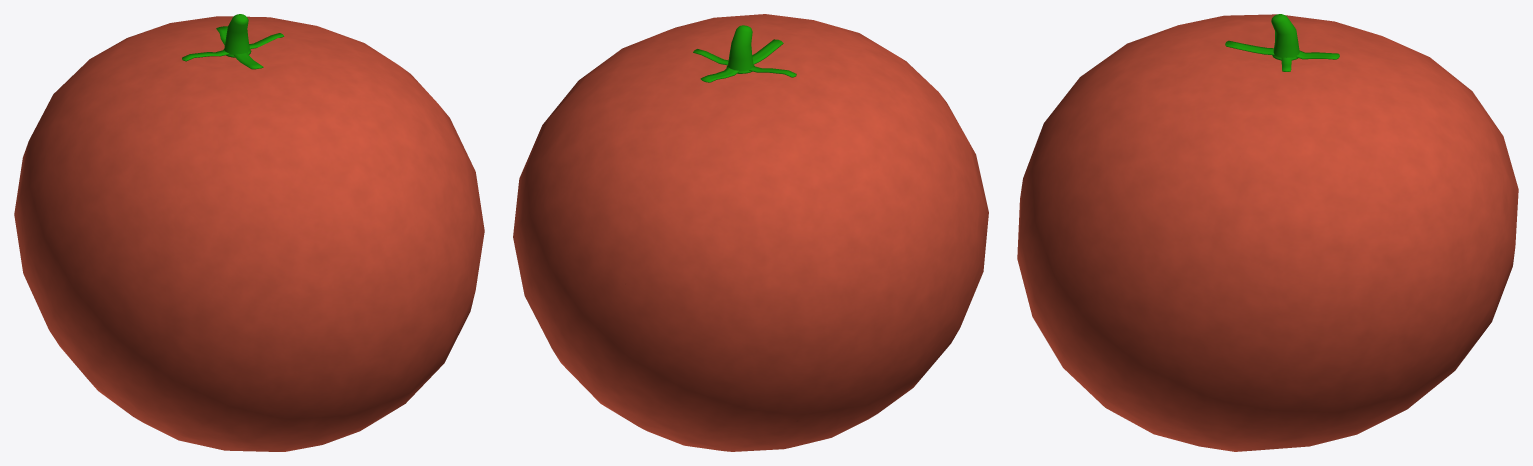
Rendered from MC_Tomato.fbx.
The picture shows the model from 3 angles, left to right: view 1: azimuth 30°, elevation 25°; view 2: azimuth 150°, elevation 25°; view 3: azimuth 270°, elevation 25°; orthographic projection. The views are drawn at different scales.
Parts seen in each view (by area): view 1: Sphere; view 2: Sphere; view 3: Sphere.
Part boxes in pixels (box(x1,y1,x2,y2)): Sphere: box(14, 14, 484, 451); Sphere: box(513, 14, 988, 451); Sphere: box(1017, 14, 1518, 451).
Size of the model in its own units: 64.22 by 63.61 by 69.67.
Materials: 2 (2 with a texture image).
